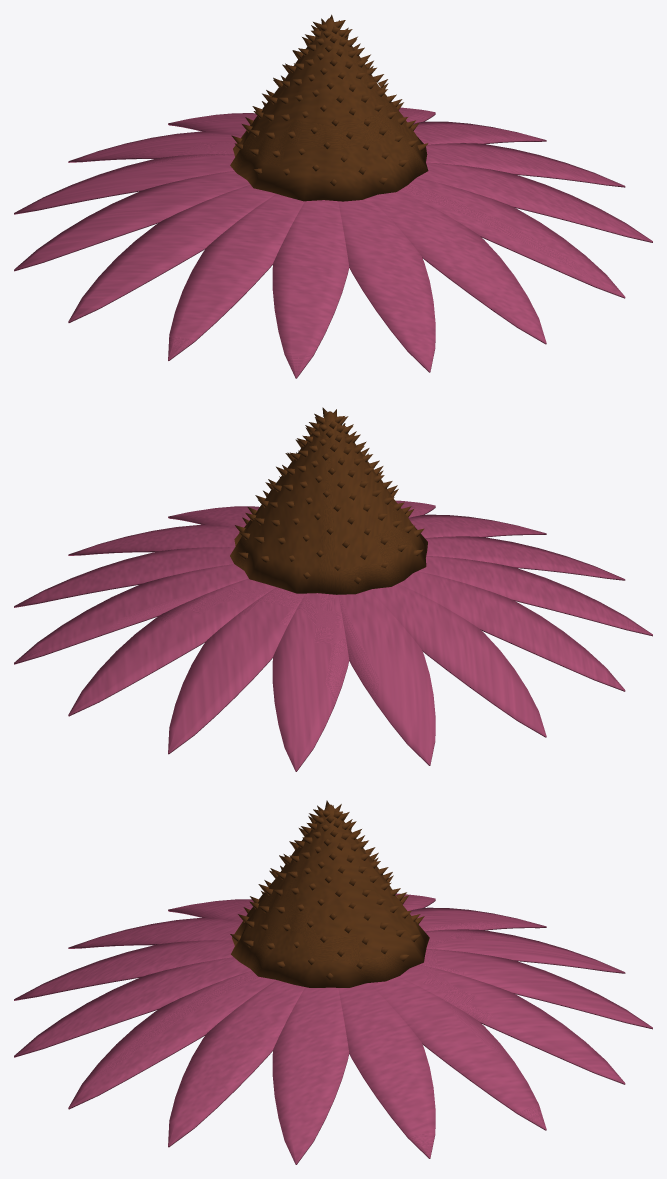
Rendered from coneflower_head.fbx.
The picture shows the model from 3 angles, top to bottom: view 1: azimuth 30°, elevation 25°; view 2: azimuth 150°, elevation 25°; view 3: azimuth 270°, elevation 25°; orthographic projection.
Visible parts, largest first — view 1: coneflower_head; view 2: coneflower_head; view 3: coneflower_head.
Boxes of the visible parts, x1,y1,x2,y2 form: coneflower_head: (14,14,652,378); coneflower_head: (14,407,652,771); coneflower_head: (14,800,652,1164).
Size of the model in its own units: 10.34 by 3.97 by 10.29.
